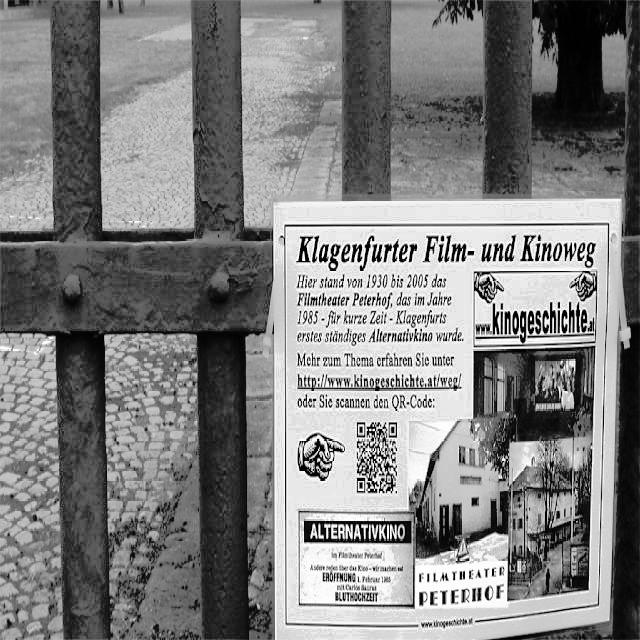qr_code: (357, 422, 396, 492)
